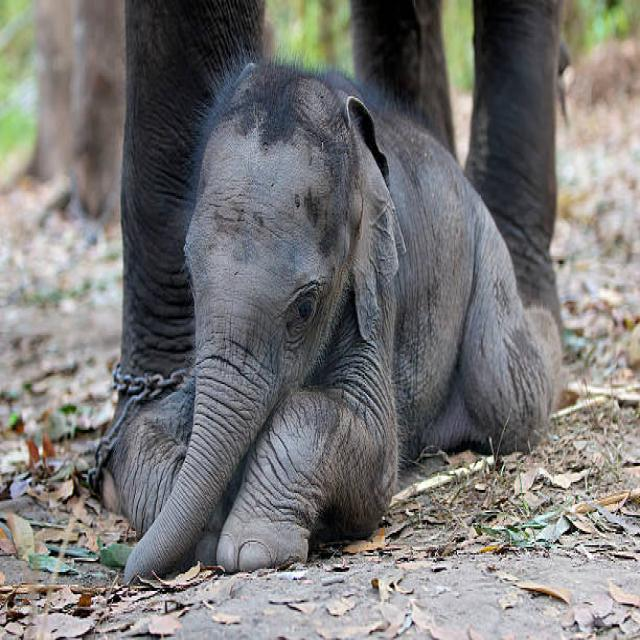Elephant: (119, 53, 574, 587)
